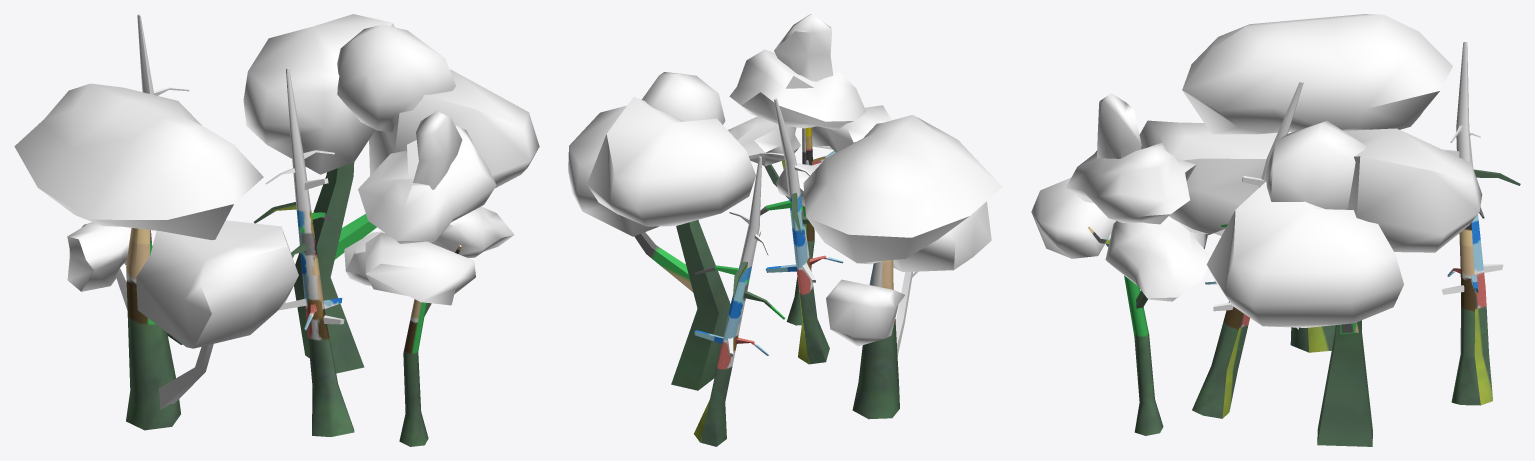
The model's file is tree pack 02.fbx.
3 renders of one model, left to right at view 1: azimuth 30°, elevation 25°; view 2: azimuth 150°, elevation 25°; view 3: azimuth 270°, elevation 25°, orthographic. The views are drawn at different scales.
Parts seen in each view (by area): view 1: tree pack 02; view 2: tree pack 02; view 3: tree pack 02.
Boxes of the visible parts, x1,y1,x2,y2 form: tree pack 02: (14,14,539,446); tree pack 02: (568,14,1002,446); tree pack 02: (1031,14,1520,446).
Size of the model in its own units: 2.2 by 1.58 by 2.02.
